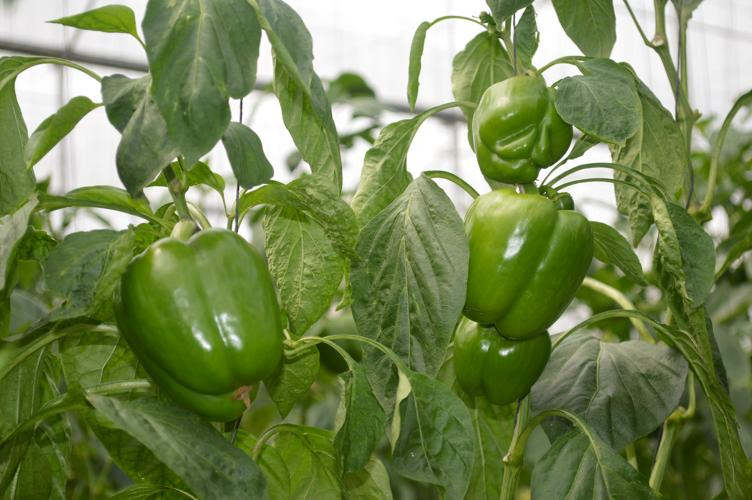BellPepper: (113, 229, 280, 419), (462, 190, 596, 335), (470, 76, 574, 184), (450, 324, 551, 404)
